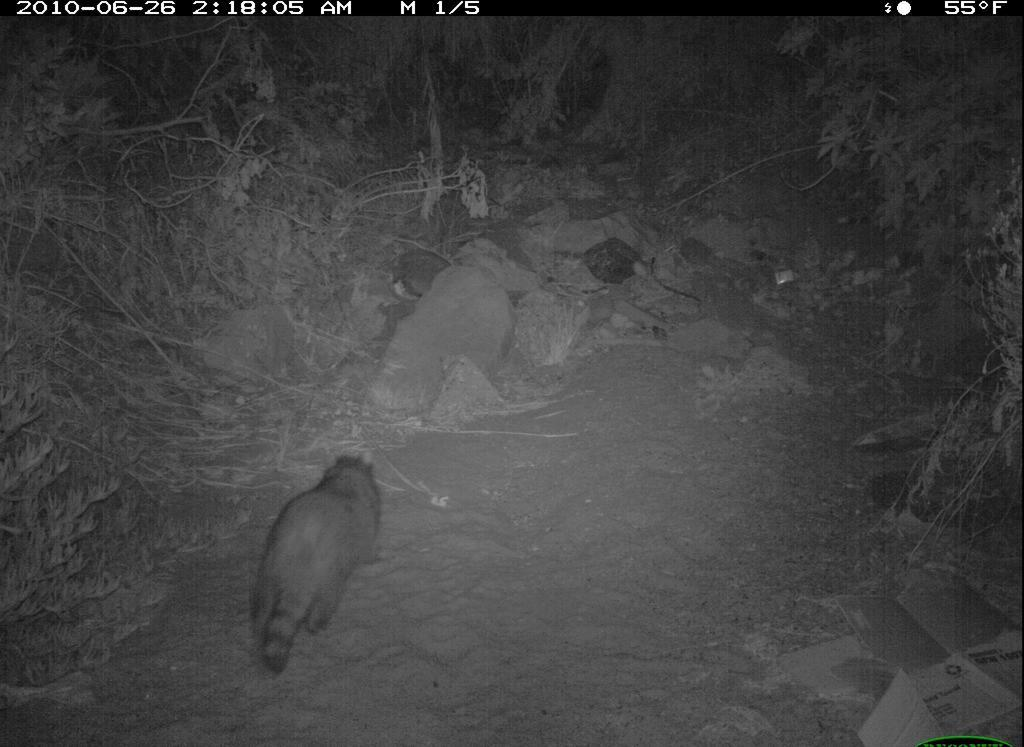raccoon: (240, 446, 395, 681)
